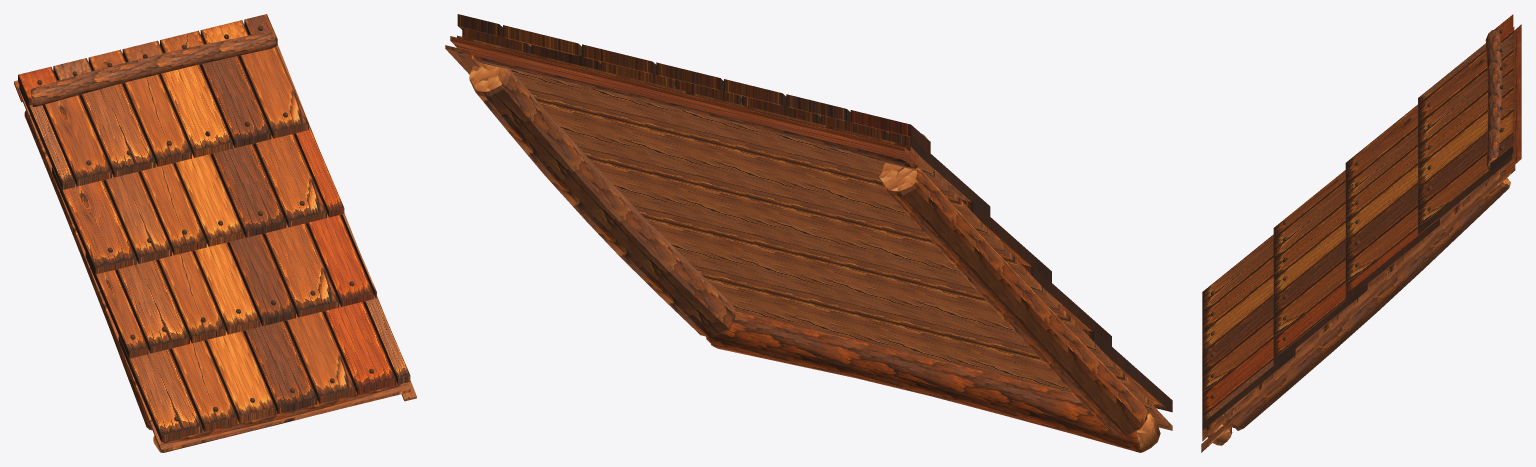
Rendered from roof_45__plank_root.glb.
The picture shows the model from 3 angles, left to right: view 1: azimuth 30°, elevation 25°; view 2: azimuth 150°, elevation 25°; view 3: azimuth 270°, elevation 25°; orthographic projection. The views are drawn at different scales.
Parts seen in each view (by area): view 1: model; view 2: model; view 3: model.
Part boxes in pixels (x1,y1,x2,y2): model: (14,14,416,452); model: (445,14,1172,452); model: (1201,14,1521,452).
Bounding box in the file's own units: 2.03 × 2.14 × 2.04.
Materials: 21 (21 with a texture image).
